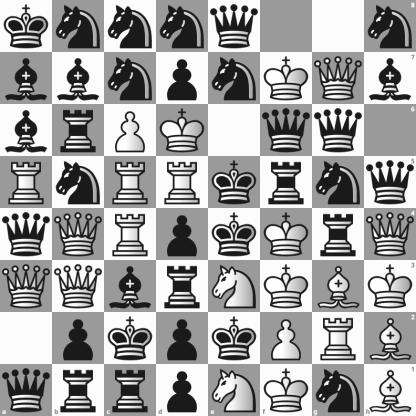B: (364, 312, 416, 364), (364, 364, 416, 416), (313, 261, 364, 312)
K: (260, 364, 312, 416), (364, 260, 416, 312), (157, 105, 208, 156), (261, 53, 312, 104), (261, 209, 312, 260), (261, 261, 312, 312)
N: (209, 364, 260, 416), (209, 261, 260, 312)
P: (105, 105, 156, 156), (261, 313, 312, 364)
Q: (364, 209, 416, 260), (1, 261, 52, 312), (53, 209, 104, 260), (53, 261, 104, 312), (313, 53, 364, 104)
R: (1, 157, 52, 208), (105, 157, 156, 208), (105, 209, 156, 260), (157, 157, 208, 208), (313, 313, 364, 364)
b: (364, 52, 416, 104), (1, 53, 52, 104), (1, 105, 52, 156), (53, 53, 104, 104), (105, 261, 156, 312)
board: (0, 0, 415, 415)
k: (1, 1, 52, 52), (105, 313, 156, 364), (209, 157, 260, 208), (209, 209, 260, 260), (209, 313, 260, 364)
n: (312, 364, 364, 416), (364, 0, 416, 52), (53, 1, 104, 52), (53, 157, 104, 208), (105, 1, 156, 52), (105, 53, 156, 104), (157, 1, 208, 52), (209, 53, 260, 104), (313, 157, 364, 208)
p: (156, 364, 209, 416), (53, 313, 104, 364), (157, 53, 208, 104), (157, 209, 208, 260), (157, 313, 208, 364)
q: (364, 156, 416, 209), (0, 364, 52, 416), (1, 209, 52, 260), (209, 1, 260, 52), (261, 105, 312, 156), (313, 105, 364, 156)
r: (52, 364, 104, 416), (104, 364, 156, 416), (53, 105, 104, 156), (157, 261, 208, 312), (261, 157, 312, 208), (313, 209, 364, 260)
